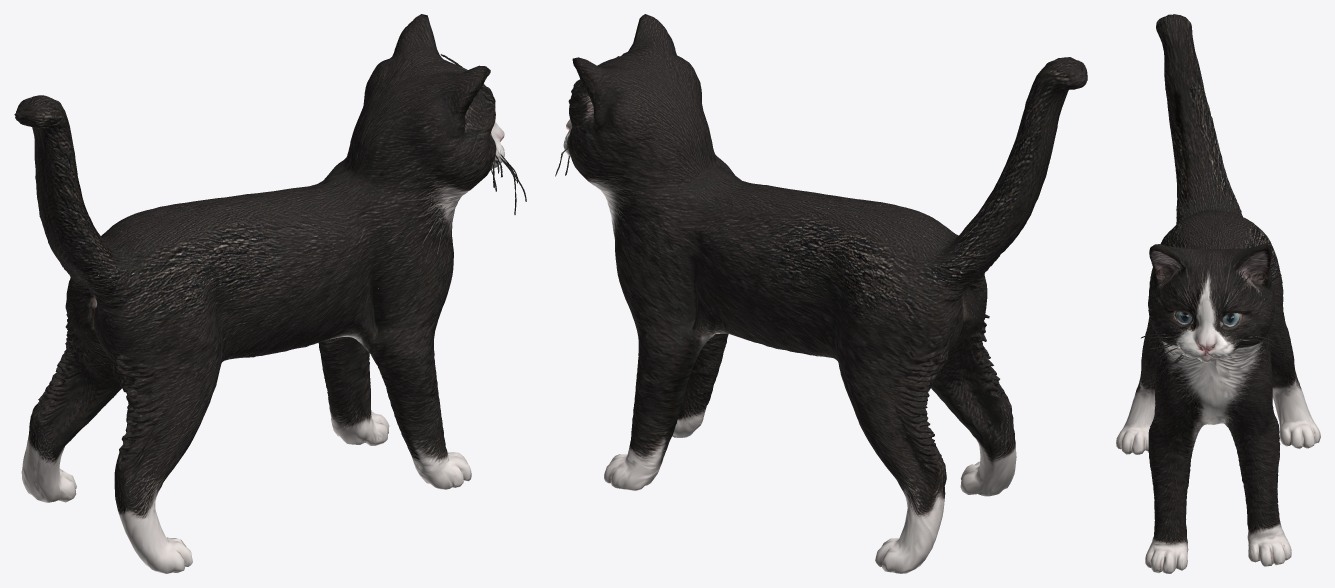
Rendered from TUXSTAN.glb.
3 renders of one model, left to right at view 1: azimuth 30°, elevation 25°; view 2: azimuth 150°, elevation 25°; view 3: azimuth 270°, elevation 25°, orthographic. The views are drawn at different scales.
Parts seen in each view (by area): view 1: tripo_node_3d8aab39-5a5a-4848-9a46-3afac90ebadc; view 2: tripo_node_3d8aab39-5a5a-4848-9a46-3afac90ebadc; view 3: tripo_node_3d8aab39-5a5a-4848-9a46-3afac90ebadc.
Boxes of the visible parts, left/top/right/bottom form: tripo_node_3d8aab39-5a5a-4848-9a46-3afac90ebadc: left=14, top=14, right=526, bottom=573; tripo_node_3d8aab39-5a5a-4848-9a46-3afac90ebadc: left=555, top=14, right=1087, bottom=573; tripo_node_3d8aab39-5a5a-4848-9a46-3afac90ebadc: left=1116, top=14, right=1320, bottom=573.
Bounding box in the file's own units: 1.1 × 0.999 × 0.4744.
Materials: 1 (1 with a texture image).
